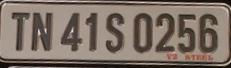0: (133, 11, 154, 55)
1: (85, 10, 99, 53)
2: (156, 13, 177, 54)
4: (61, 10, 83, 53)
5: (177, 12, 197, 55)
6: (198, 11, 221, 56)
N: (30, 11, 54, 53)
S: (105, 10, 125, 55)
T: (11, 10, 30, 52)
